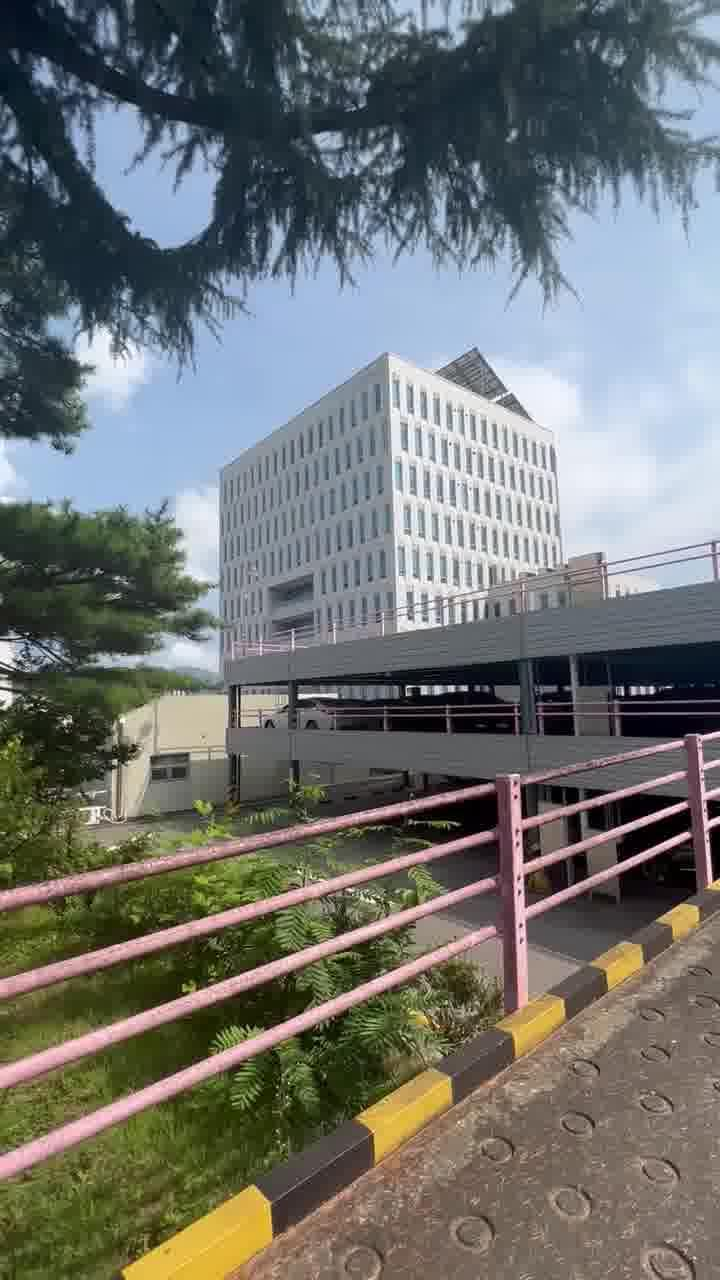building: (194, 334, 592, 694)
